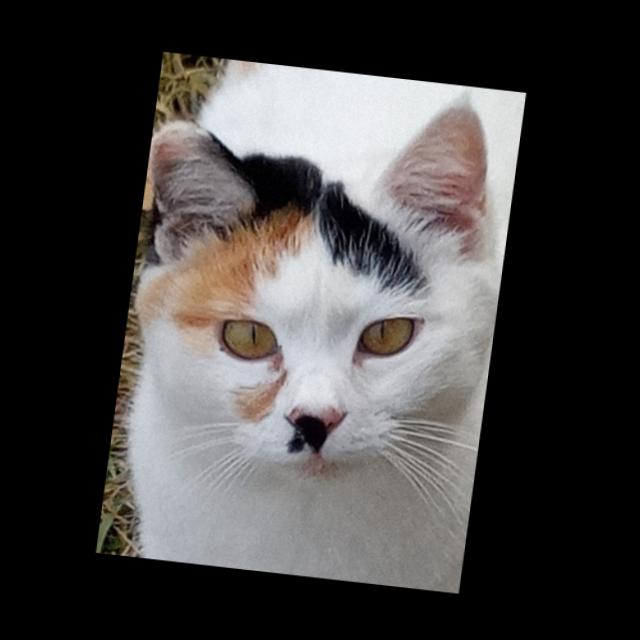animals: (110, 56, 520, 498)
